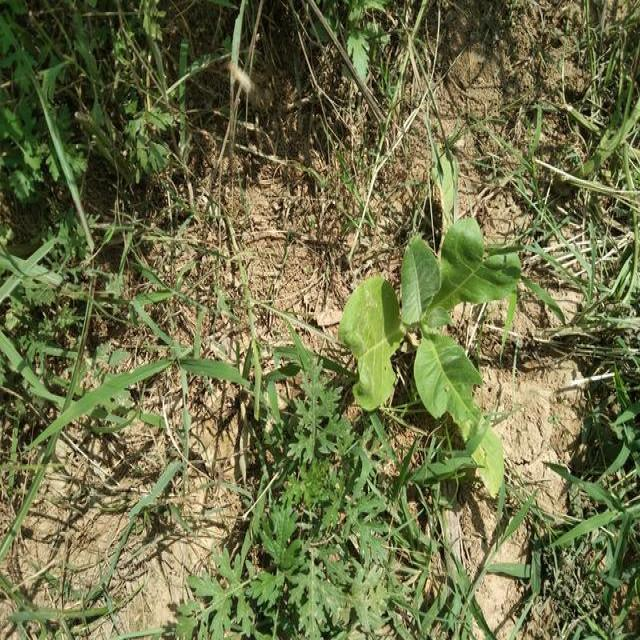crop: (344, 190, 512, 485)
